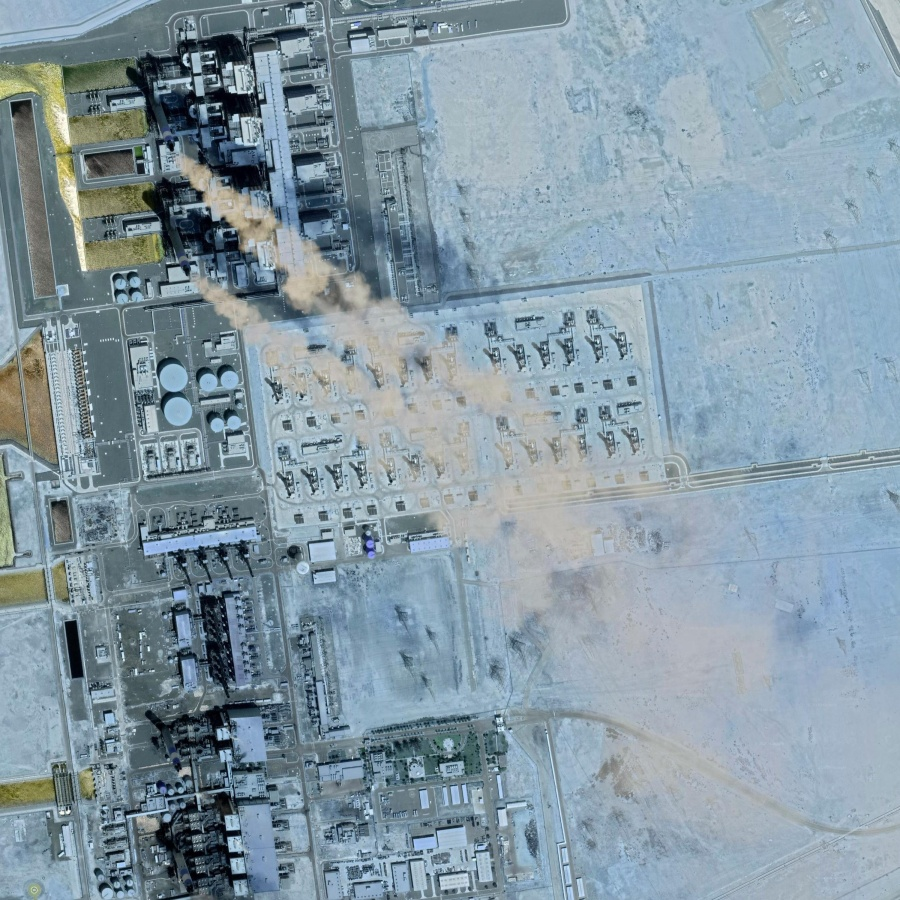PowerPlant: (47, 20, 490, 428), (92, 582, 314, 898)
